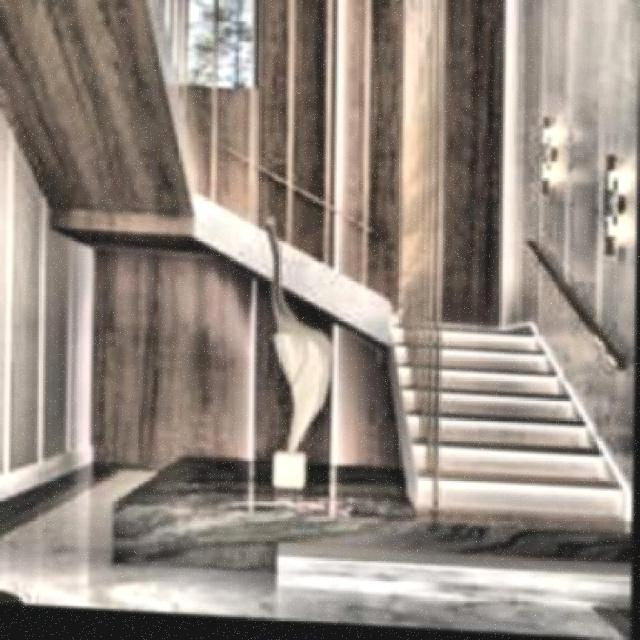stair: (364, 316, 632, 534)
